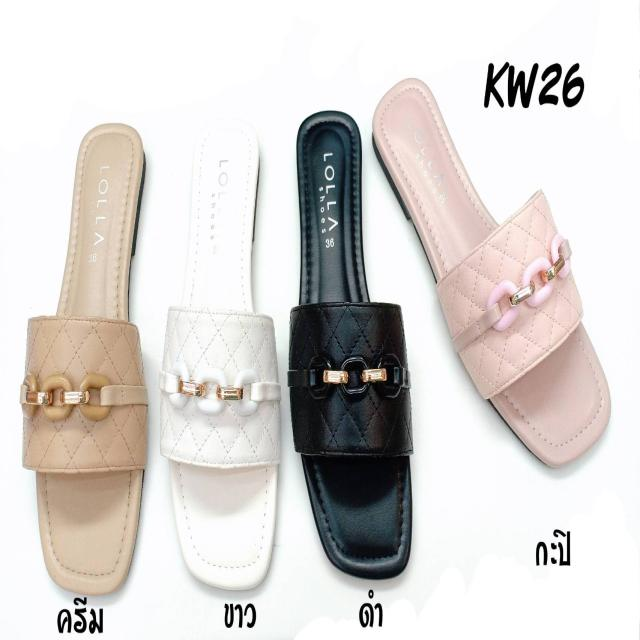black: (292, 106, 413, 576)
cream: (37, 125, 140, 590)
kapi: (375, 75, 609, 472)
white: (171, 125, 281, 590)
